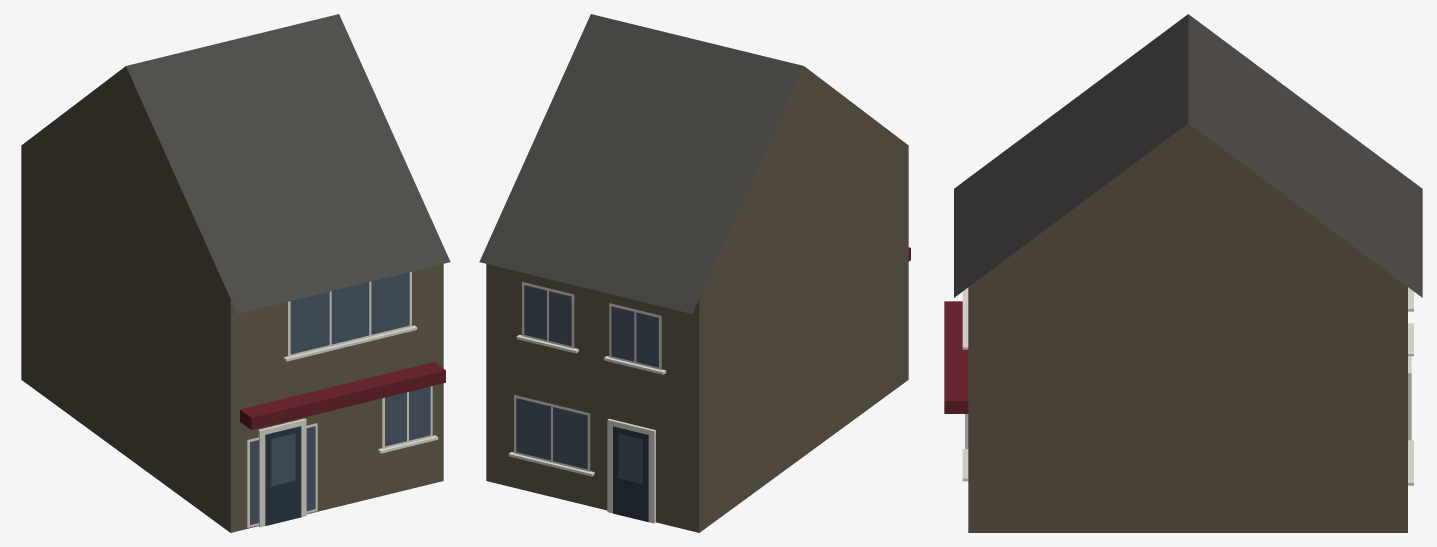
The model's file is nw-rowhouse-ribbon-fascia__red__2__gable__long__solid.glb.
3 views of the same model, side by side, from view 1: azimuth 30°, elevation 25°; view 2: azimuth 150°, elevation 25°; view 3: azimuth 270°, elevation 25° (orthographic). The views are drawn at different scales.
Parts seen in each view (by area): view 1: nw-rowhouse-ribbon-fascia__red__2__gable__long__solid; view 2: nw-rowhouse-ribbon-fascia__red__2__gable__long__solid; view 3: nw-rowhouse-ribbon-fascia__red__2__gable__long__solid.
Boxes of the visible parts, left/top/right/bottom form: nw-rowhouse-ribbon-fascia__red__2__gable__long__solid: left=21, top=14, right=450, bottom=532; nw-rowhouse-ribbon-fascia__red__2__gable__long__solid: left=479, top=14, right=910, bottom=532; nw-rowhouse-ribbon-fascia__red__2__gable__long__solid: left=944, top=14, right=1422, bottom=532.
Bounding box in the file's own units: 5.37 × 9.4 × 9.94.
